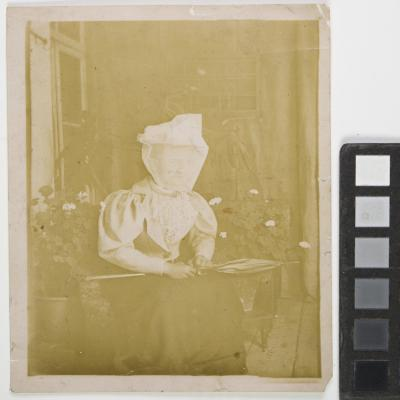photos_negatives: (5, 9, 326, 390)
